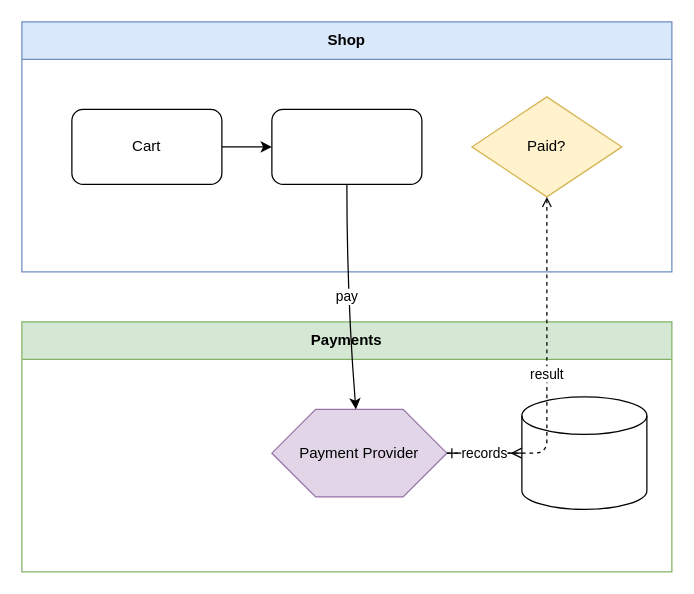
The diagram is 694 pixels wide and 594 high, and some of its shapes have lost their labels. Here are the shapes that lost their labels. From the top down, the centre of each, then its label:
At pixel 346 146: "Checkout".
At pixel 584 452: "Ledger".
